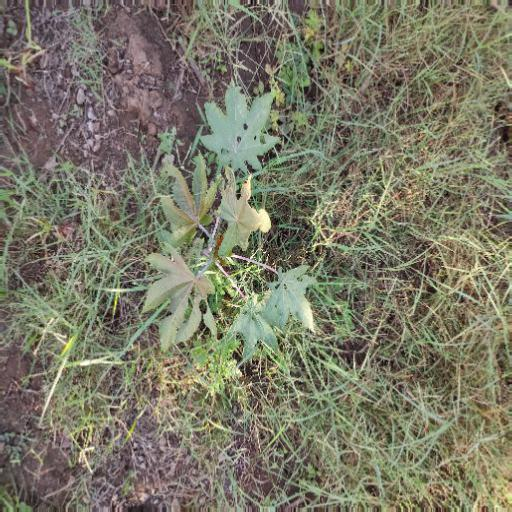weed: (131, 78, 335, 370)
